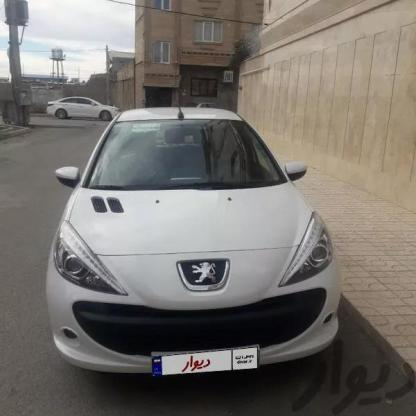Car: (39, 100, 357, 376), (42, 88, 113, 120)
